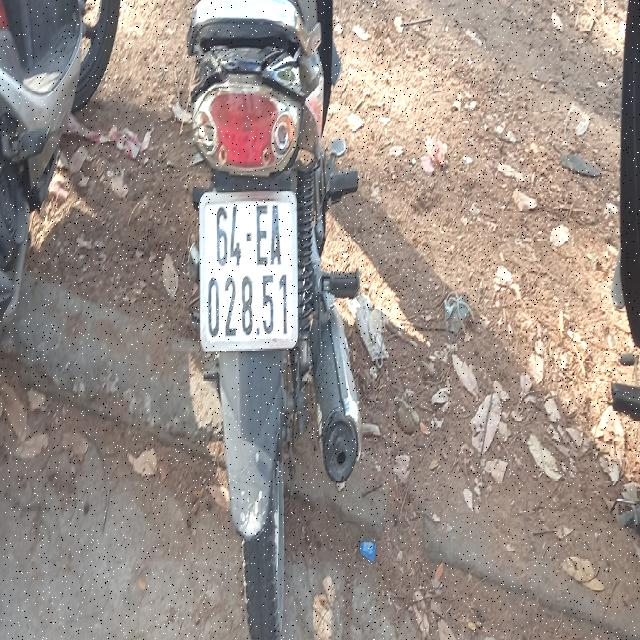0: (208, 274, 220, 338)
1: (278, 274, 289, 336)
2: (224, 275, 237, 337)
4: (231, 203, 243, 269)
5: (262, 274, 274, 334)
6: (216, 205, 228, 265)
8: (242, 276, 253, 335)
A: (271, 204, 282, 268)
E: (256, 204, 269, 270)
